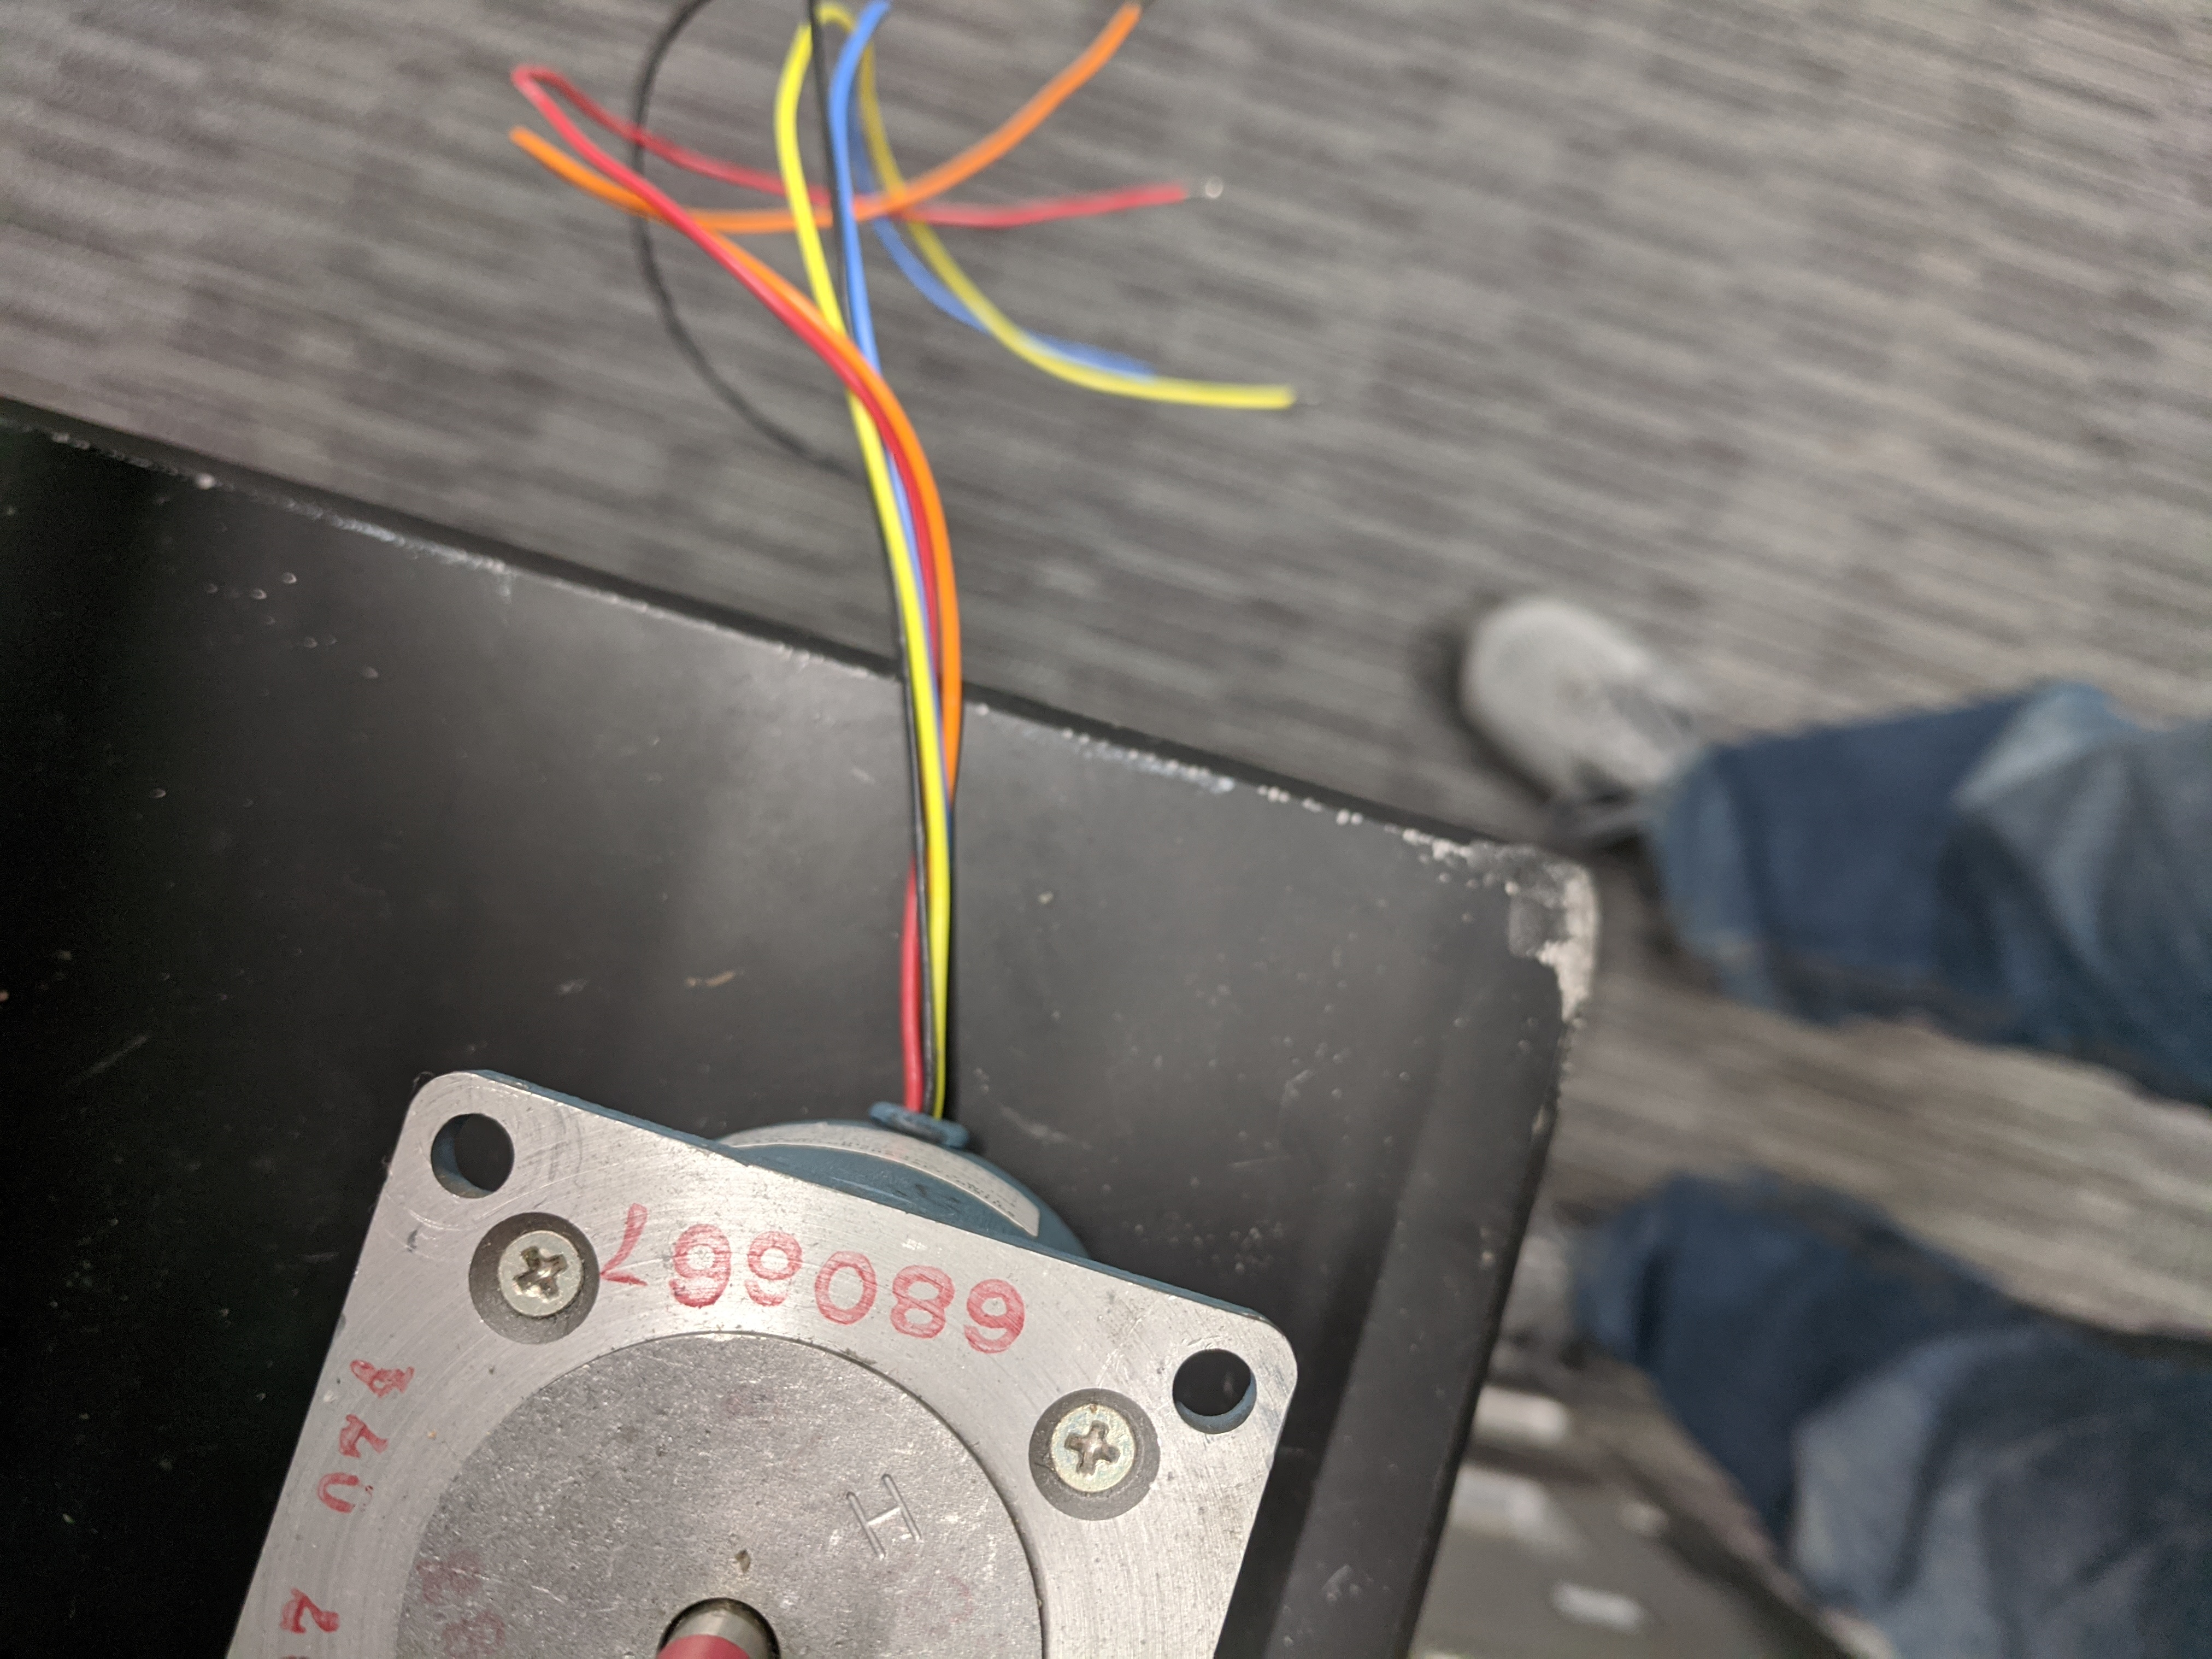cross_recessed_screw: (484, 1222, 590, 1324), (1047, 1399, 1136, 1497)
